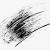scratch: (0, 1, 49, 49)
